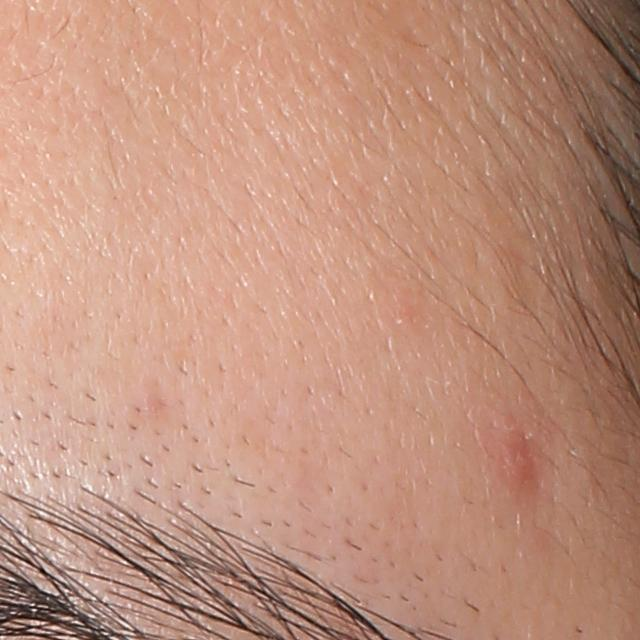papule: (506, 426, 544, 494)
